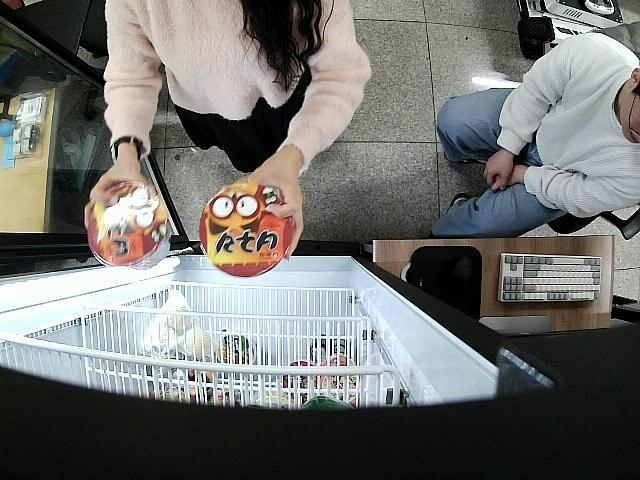05_nuguri_L: (197, 182, 296, 278), (86, 180, 172, 269)
